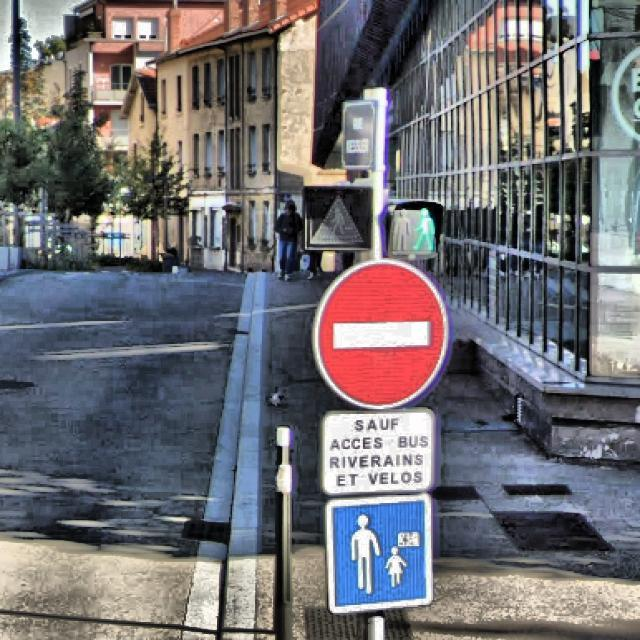green_light: (408, 204, 436, 252)
